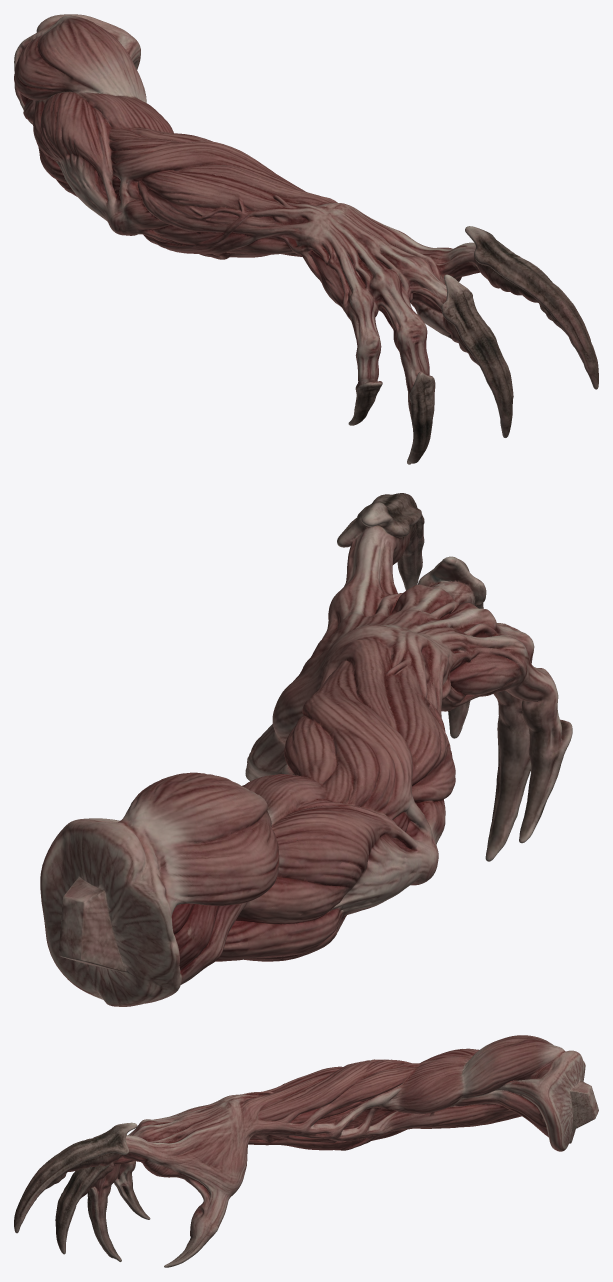
File: mutated_arm_claw_leve.glb
The picture shows the model from 3 angles, top to bottom: view 1: azimuth 30°, elevation 25°; view 2: azimuth 150°, elevation 25°; view 3: azimuth 270°, elevation 25°; orthographic projection. The views are drawn at different scales.
Bounding box in the file's own units: 0.9432 × 0.8995 × 2.39.
1 material, 1 textured.
